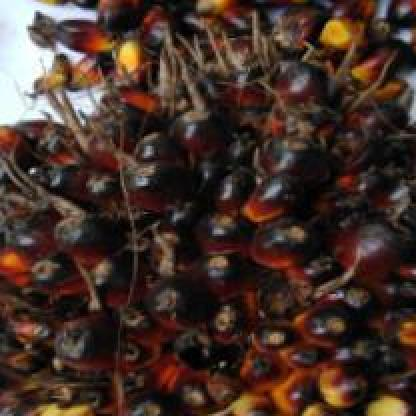underripe: (0, 62, 416, 416)
